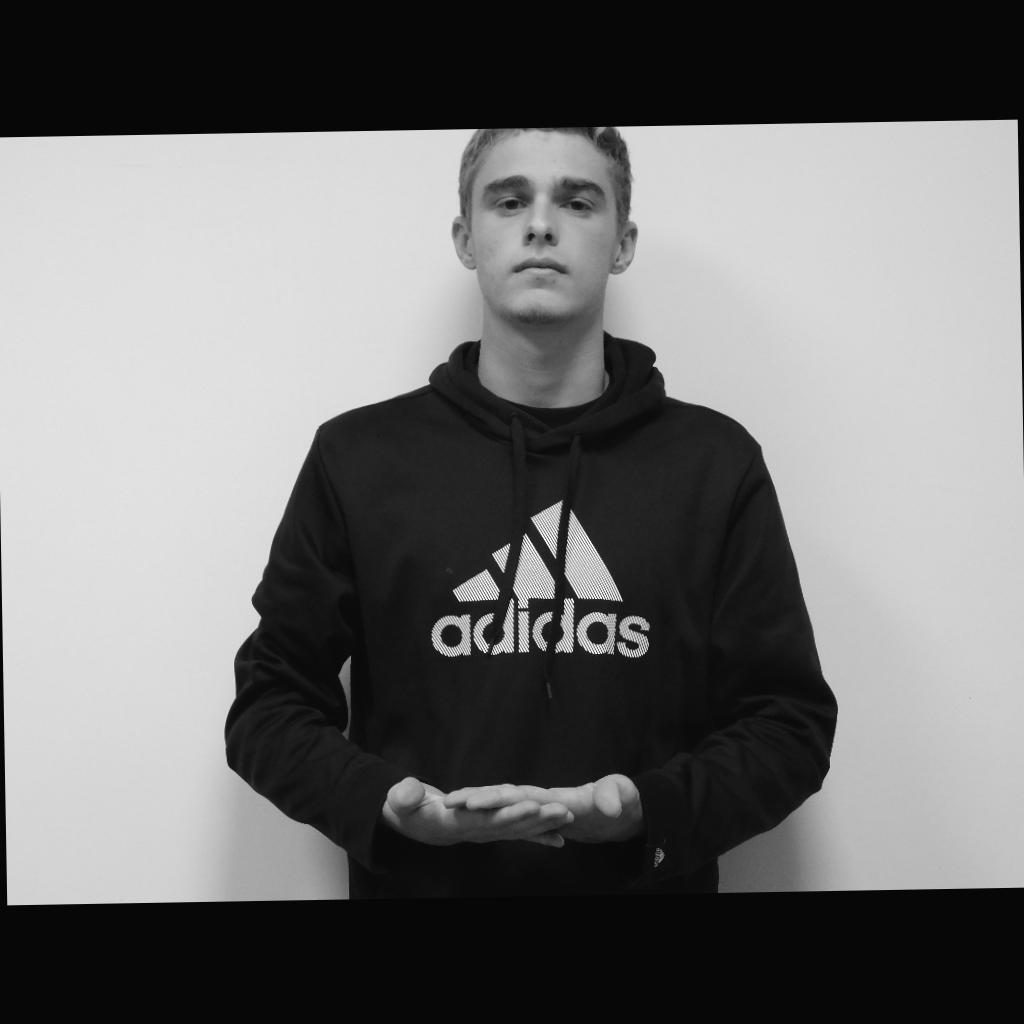good: (387, 772, 641, 850)
